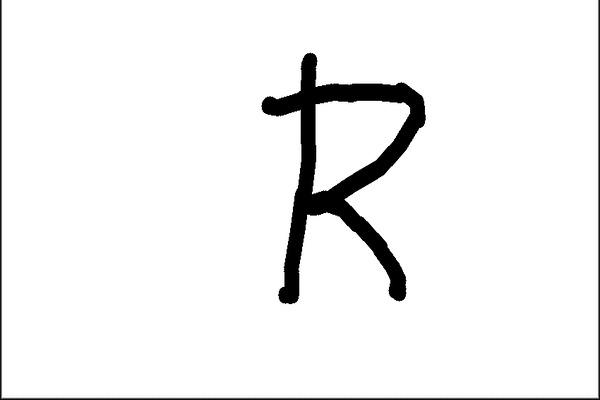R: (249, 36, 433, 320)
